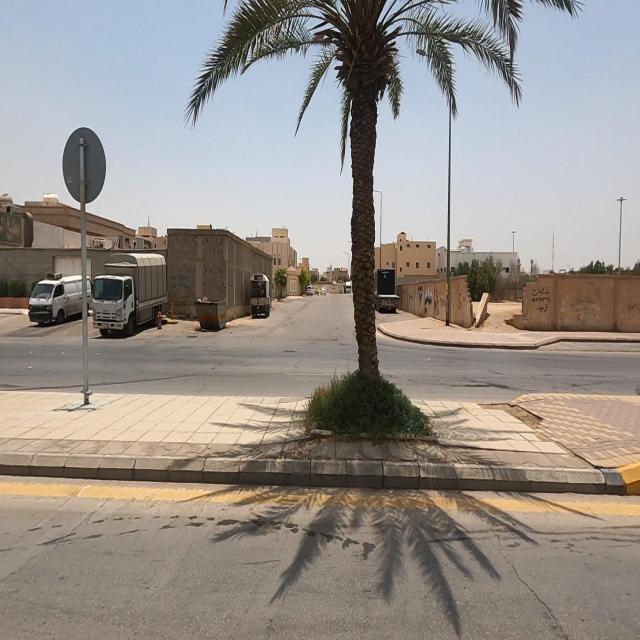Graffiti: (571, 296, 599, 321), (533, 288, 551, 316), (437, 287, 448, 316), (425, 287, 433, 316), (417, 288, 423, 314), (409, 289, 415, 308), (457, 294, 463, 312), (403, 290, 408, 296)
